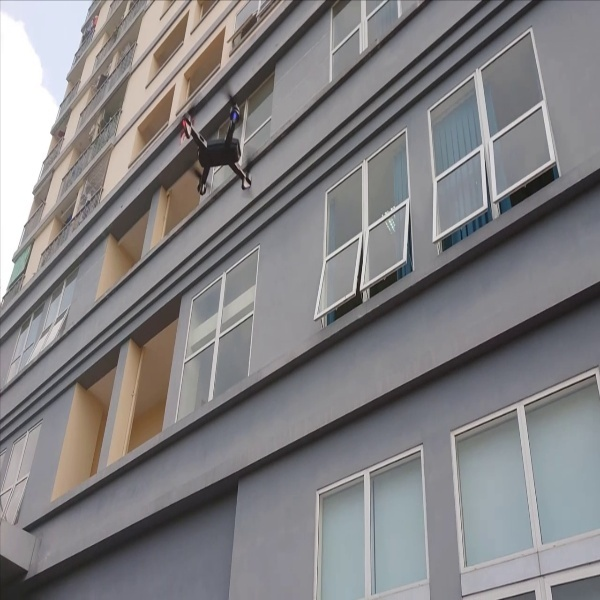drone: (172, 85, 263, 200)
